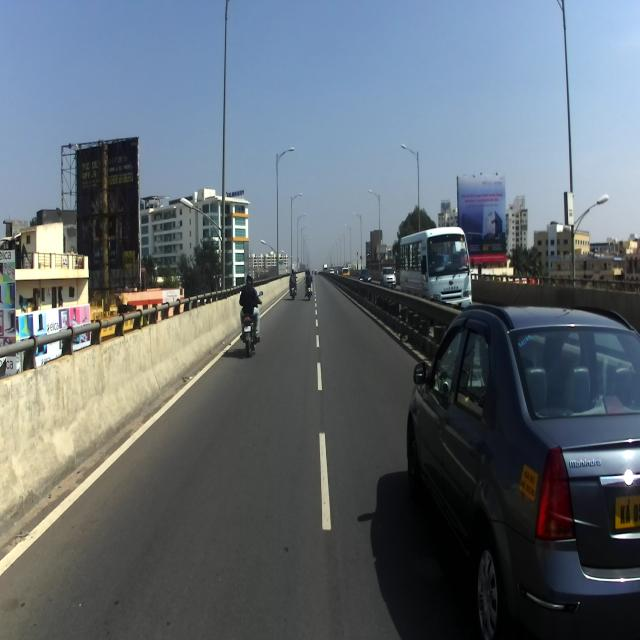car ahead at: (407, 305, 634, 632)
